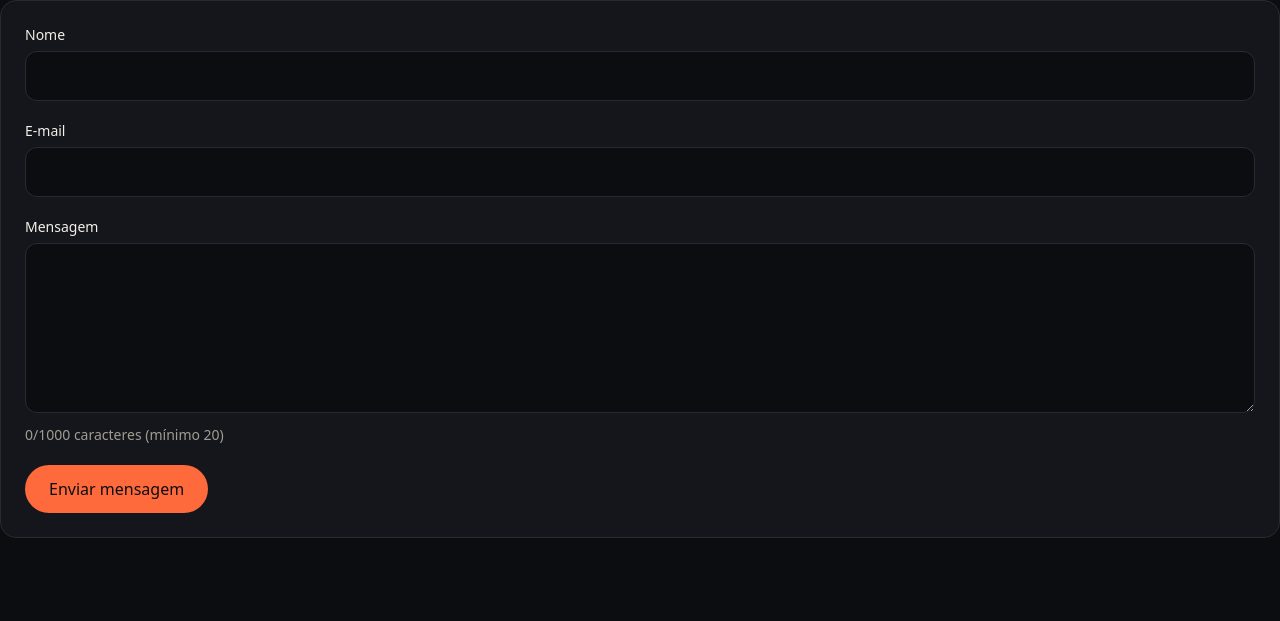
Test: ContactForm › mostra erro amigável quando o envio falha e libera o botão
Type "Arthur" into the field labelled "Nome".
click(640, 76); type("Arthur")  # box [25,51,1255,101]
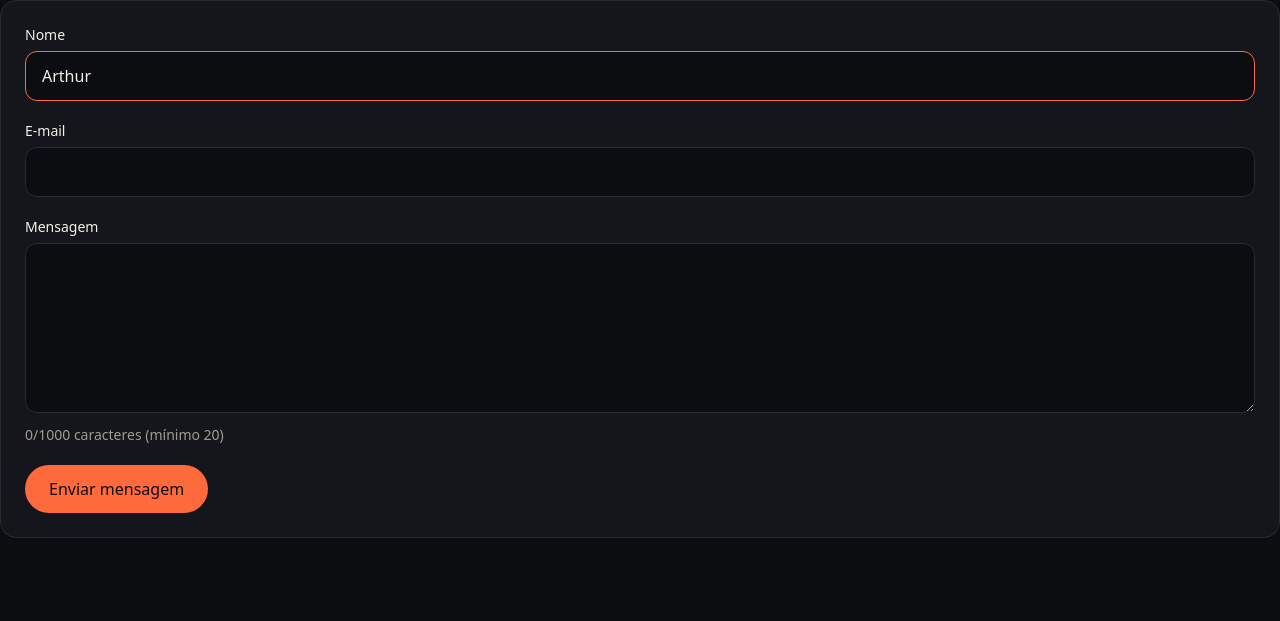
Type "arthur@exemplo.com" into the field labelled "E-mail".
click(640, 172); type("arthur@exemplo.com")  # box [25,147,1255,197]
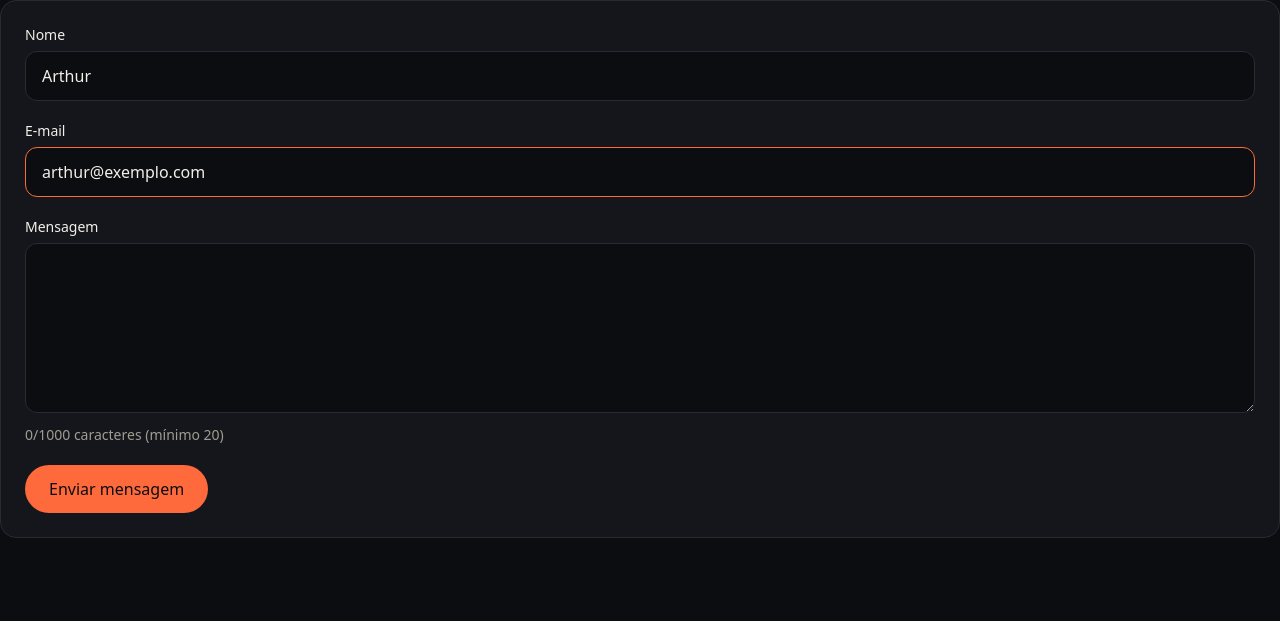
Type "Olá! Gostaria de conversar sobre uma vaga de front-end." into the text box labelled "Mensagem".
click(640, 328); type("Olá! Gostaria de conversar sobre uma vaga de front-end.")  # box [25,243,1255,413]
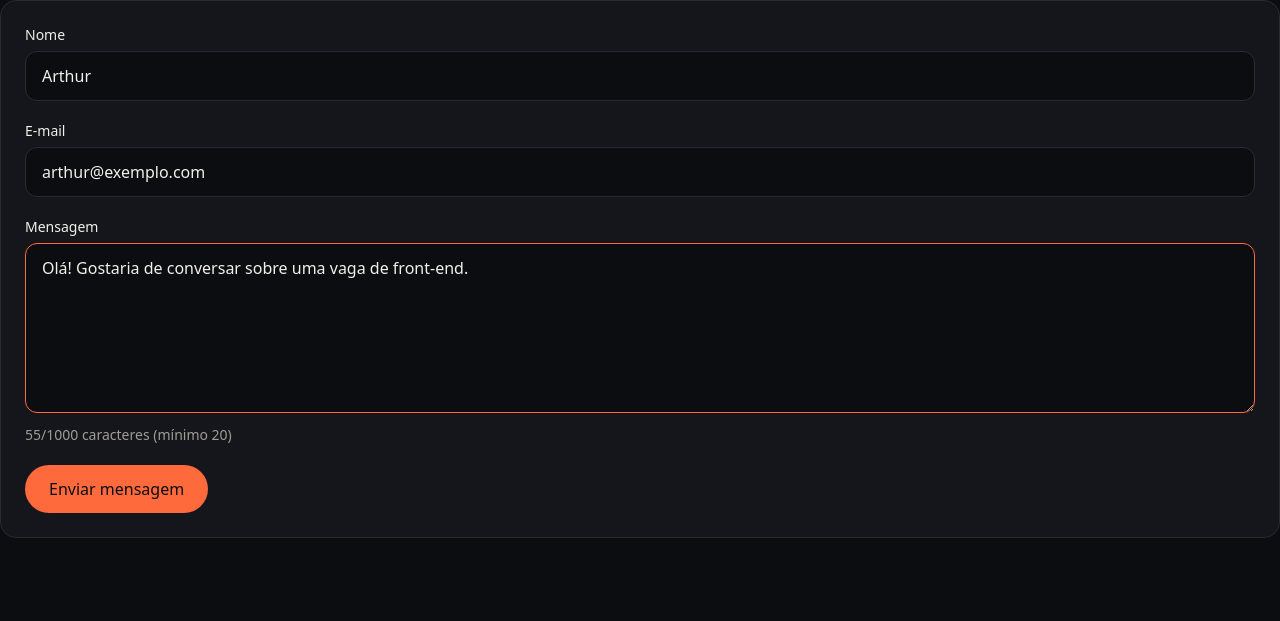
Click the button "Enviar mensagem".
click(117, 489)  # box [25,465,208,513]
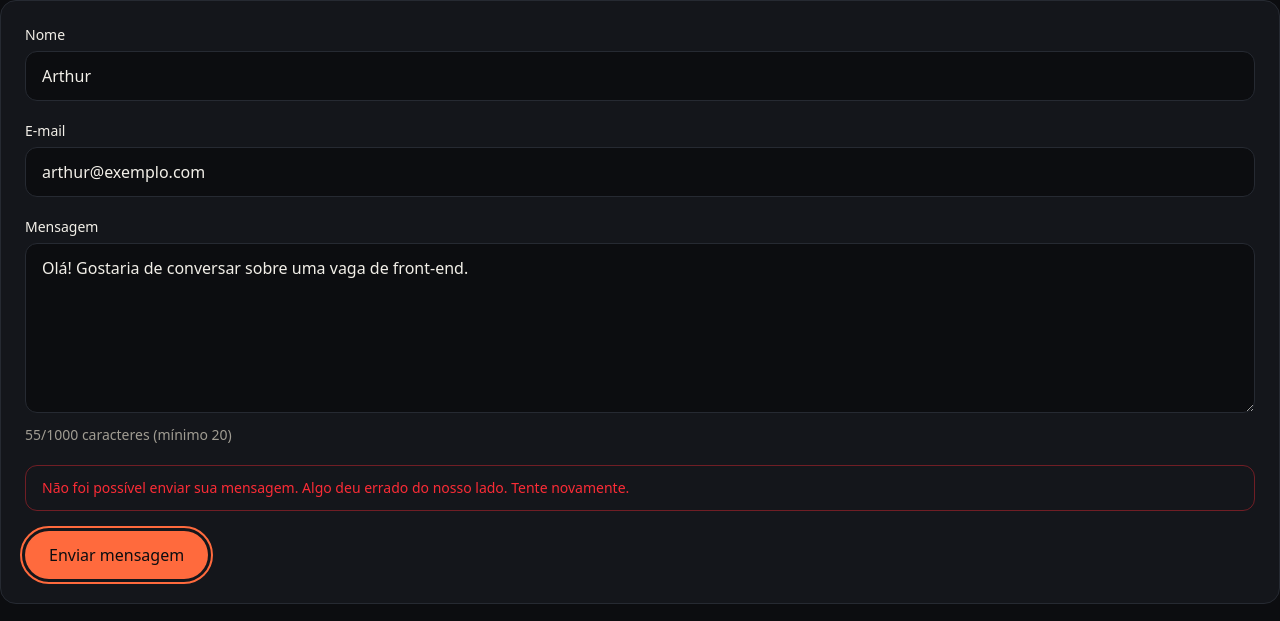
Expected: the button "Enviar mensagem" is enabled, [25,531,208,579]
Expected: the message shows "Não foi possível enviar sua mensagem", [42,478,302,497]
